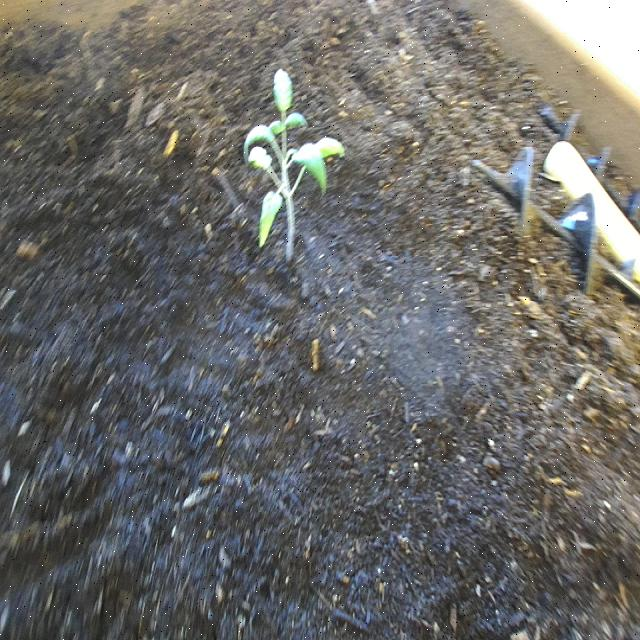Healthy: (236, 63, 347, 264)
